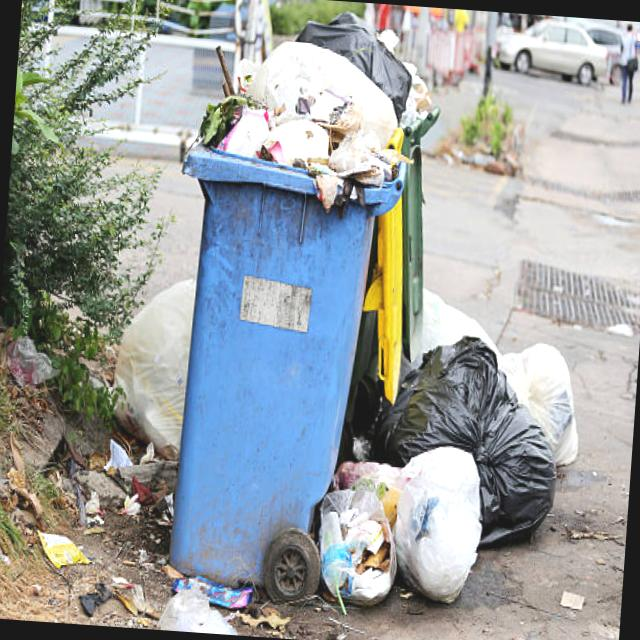garbage: (143, 13, 608, 622)
